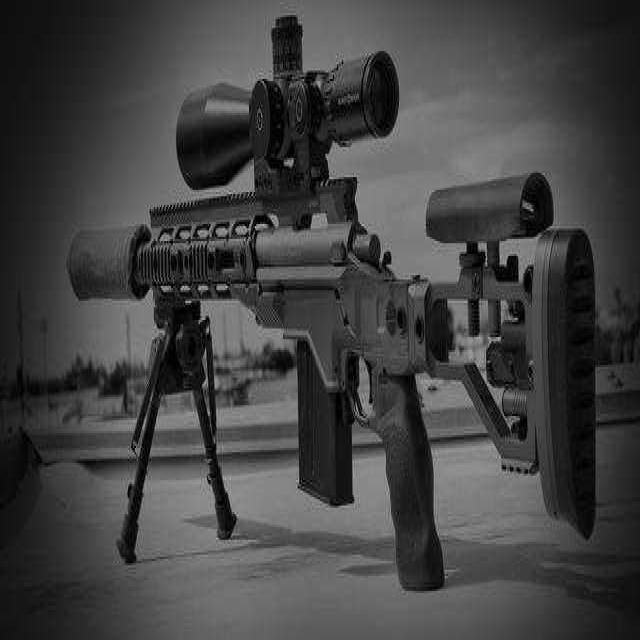heavyweapon: (48, 40, 618, 567)
